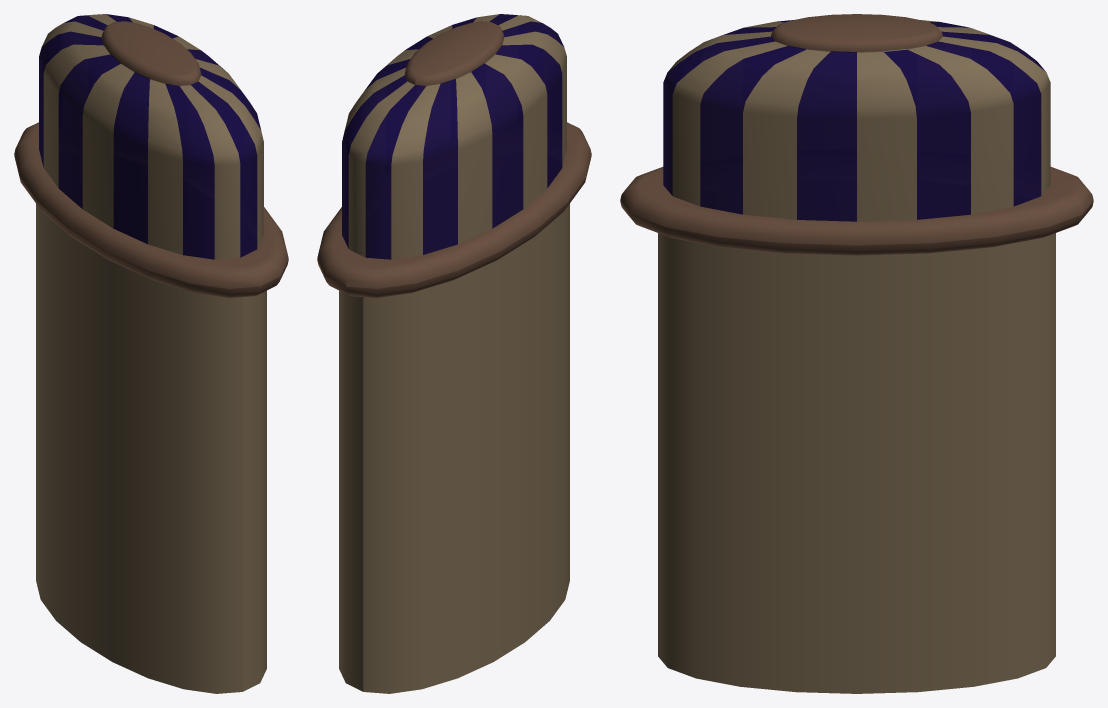
The model's file is FlatDome.fbx.
3 views of the same model, side by side, from view 1: azimuth 30°, elevation 25°; view 2: azimuth 150°, elevation 25°; view 3: azimuth 270°, elevation 25° (orthographic). The views are drawn at different scales.
Parts seen in each view (by area): view 1: TCylinderBuilding; view 2: TCylinderBuilding; view 3: TCylinderBuilding.
Part boxes in pixels (x1,y1,x2,y2): TCylinderBuilding: (14,14,288,693); TCylinderBuilding: (317,14,591,693); TCylinderBuilding: (620,14,1093,693).
Size of the model in its own units: 9.14 by 30.19 by 20.44.
